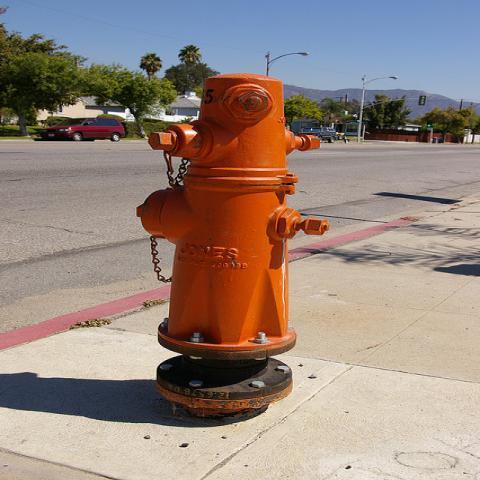car: (40, 118, 125, 142), (295, 126, 349, 144)
